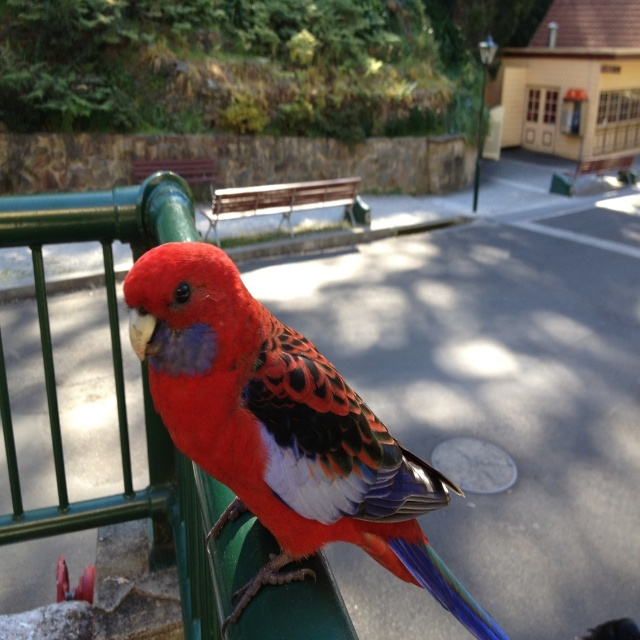Parrot: (124, 239, 509, 639)
